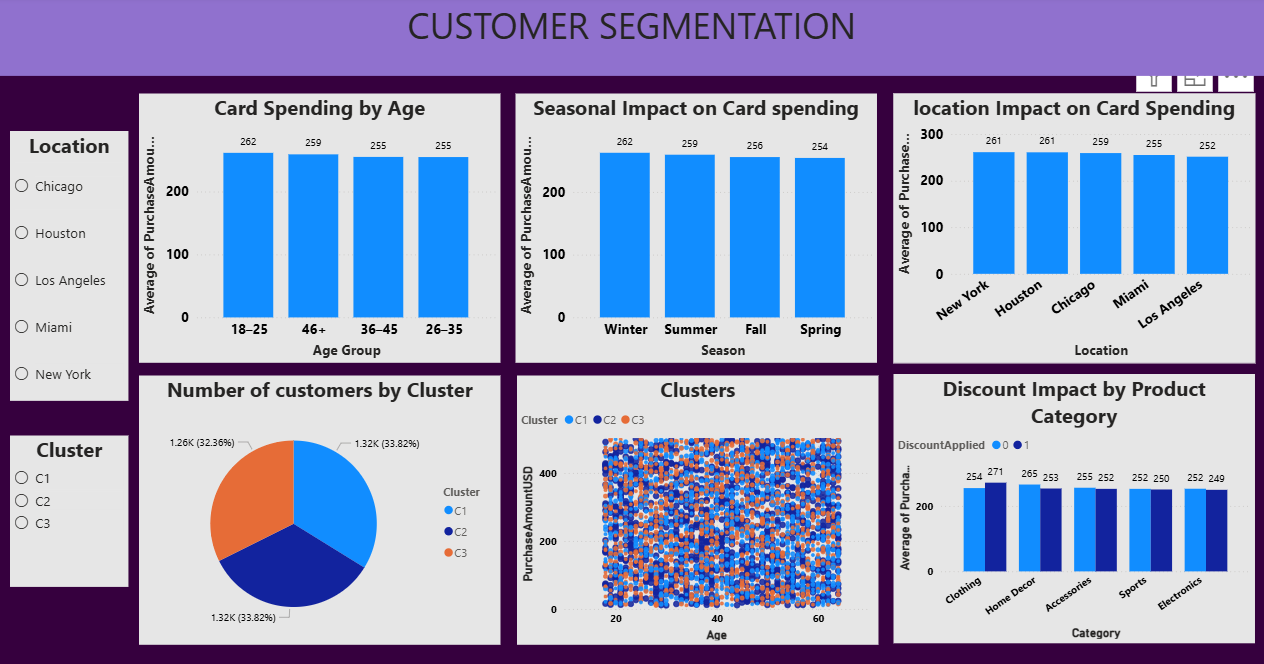

The dashboard page shown, as its layout file describes it:
{"tool":"powerbi","page":{"name":"Customer_segmentation_Dachboard","canvas":[1513,800],"ordinal":6},"visuals":[{"type":"clusteredColumnChart","title":"Discount Impact by Product Category","fields":{"Category":["shopping_trends_dataset.Category"],"Series":["shopping_trends_dataset.DiscountApplied"],"Y":["Avg(shopping_trends_dataset.PurchaseAmountUSD)"]},"box":[1068.2,450.7,431.2,321.2],"z":0},{"type":"clusteredColumnChart","title":" Card Spending by Age ","fields":{"Y":["Avg(shopping_trends_dataset.PurchaseAmountUSD)"],"Category":["shopping_trends_dataset.Age Group"]},"box":[168.6,117.1,431.2,321.2],"z":1000},{"type":"clusteredColumnChart","title":"Seasonal Impact on Card spending","fields":{"Y":["Avg(shopping_trends_dataset.PurchaseAmountUSD)"],"Category":["shopping_trends_dataset.Season"]},"box":[617.5,117.1,431.2,321.2],"z":2000},{"type":"clusteredColumnChart","title":"location Impact on Card Spending","fields":{"Y":["Avg(shopping_trends_dataset.PurchaseAmountUSD)"],"Category":["shopping_trends_dataset.Location"]},"box":[1068.2,117.1,431.2,321.2],"z":3000},{"type":"scatterChart","title":"Clusters","fields":{"X":["customer segmentation.Age"],"Y":["customer segmentation.PurchaseAmountUSD"],"Series":["customer segmentation.Cluster"],"Size":["Avg(customer segmentation.FrequencyOfPurchases)"]},"box":[619.3,452.5,431.2,321.2],"z":4000},{"type":"pieChart","fields":{"Category":["customer segmentation.Cluster"],"Y":["CountNonNull(customer segmentation.PurchaseAmountUSD)"]},"box":[168.6,452.5,431.2,321.2],"z":5000},{"type":"listSlicer","fields":{"Values":["shopping_trends_dataset.Location"]},"box":[14.3,161.1,141.4,322.2],"z":6000},{"type":"listSlicer","fields":{"Values":["customer segmentation.Cluster"]},"box":[14.3,524.4,141.4,180.8],"z":7000},{"type":"textbox","box":[0,0,1512.4,95.2],"z":8000}]}

Visuals, with their boxes in screenshot pixels (x1, y1, x2, y2), scaled from the page's 1513x800 canvas onto the 1264x664 screenshot:
"Discount Impact by Product Category" clusteredColumnChart: bbox=(892, 374, 1253, 641)
" Card Spending by Age " clusteredColumnChart: bbox=(141, 97, 501, 364)
"Seasonal Impact on Card spending" clusteredColumnChart: bbox=(516, 97, 876, 364)
"location Impact on Card Spending" clusteredColumnChart: bbox=(892, 97, 1253, 364)
"Clusters" scatterChart: bbox=(517, 376, 878, 642)
pieChart - customer segmentation.Cluster x CountNonNull(customer segmentation.PurchaseAmountUSD): bbox=(141, 376, 501, 642)
listSlicer - shopping_trends_dataset.Location: bbox=(12, 134, 130, 401)
listSlicer - customer segmentation.Cluster: bbox=(12, 435, 130, 585)
textbox: bbox=(0, 0, 1263, 79)
